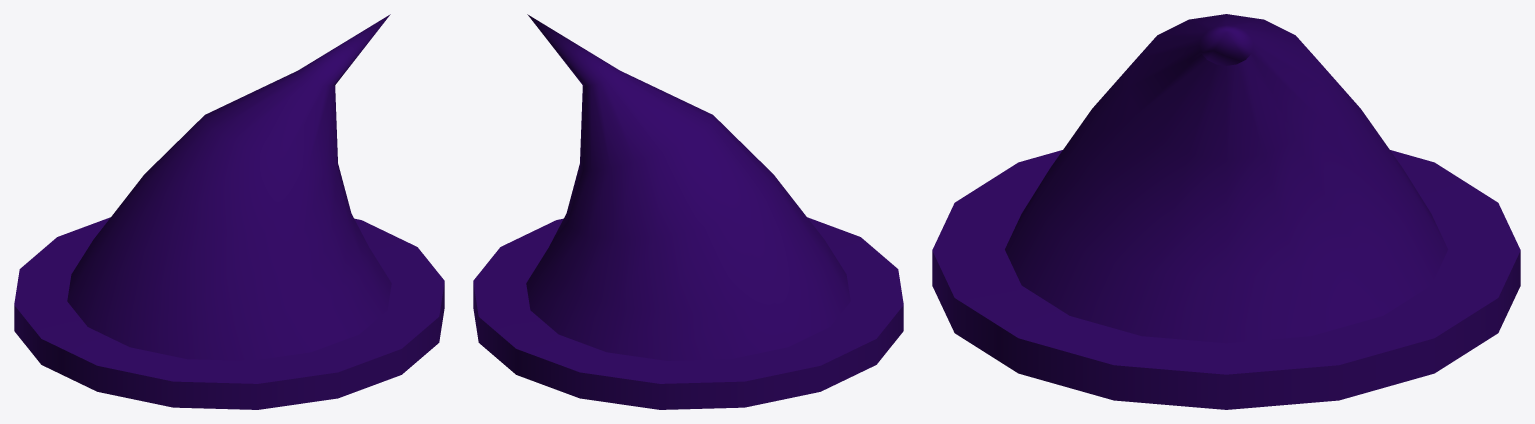
Rendered from ChapeuDeBruxa.fbx.
3 renders of one model, left to right at view 1: azimuth 30°, elevation 25°; view 2: azimuth 150°, elevation 25°; view 3: azimuth 270°, elevation 25°, orthographic. The views are drawn at different scales.
Parts seen in each view (by area): view 1: ChapeuDeBruxa; view 2: ChapeuDeBruxa; view 3: ChapeuDeBruxa.
Part boxes in pixels (<box>): ChapeuDeBruxa: <box>14,14,444,409</box>; ChapeuDeBruxa: <box>473,14,903,409</box>; ChapeuDeBruxa: <box>932,14,1520,409</box>.
Bounding box in the file's own units: 264 × 183 × 264.
